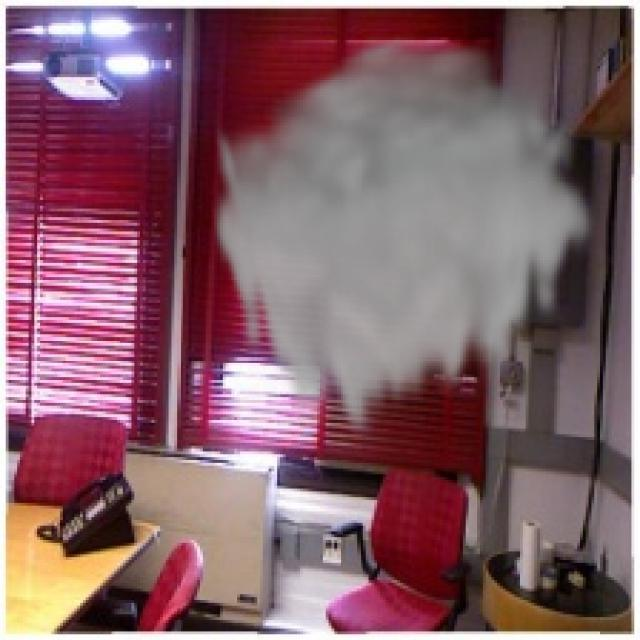Smoke: (208, 29, 600, 452)
